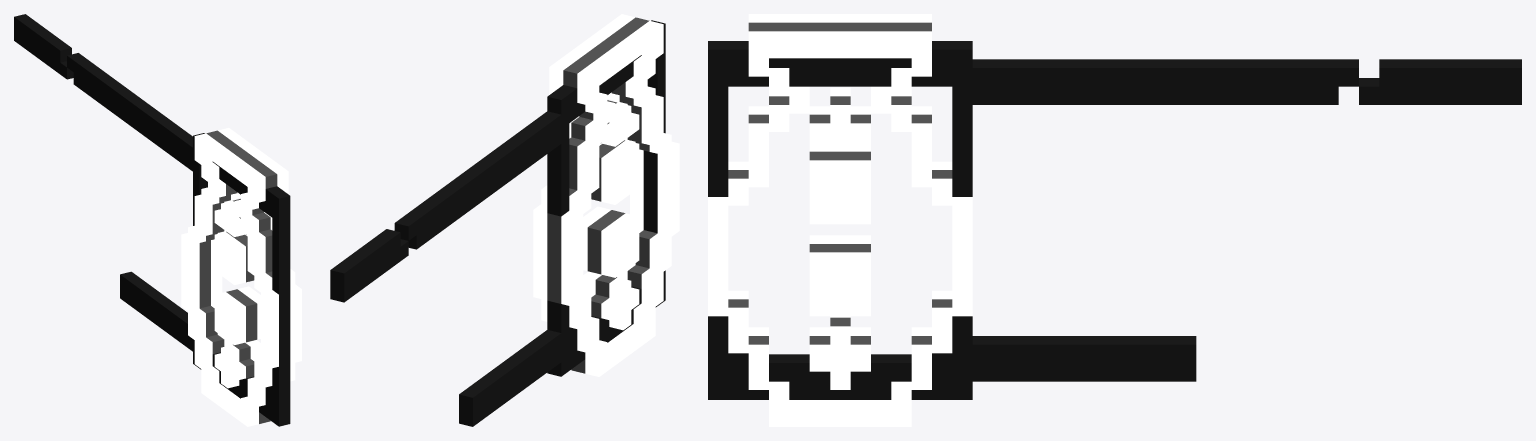
The model's file is izakayaSign.glb.
The picture shows the model from 3 angles, left to right: view 1: azimuth 30°, elevation 25°; view 2: azimuth 150°, elevation 25°; view 3: azimuth 270°, elevation 25°; orthographic projection. The views are drawn at different scales.
Parts seen in each view (by area): view 1: ObjObject; view 2: ObjObject; view 3: ObjObject.
Part boxes in pixels (x1,y1,x2,y2): ObjObject: (14, 14, 301, 426); ObjObject: (330, 14, 679, 426); ObjObject: (708, 14, 1521, 426).
Size of the model in its own units: 0.3 by 2.1 by 4.
2 materials, 1 textured.
